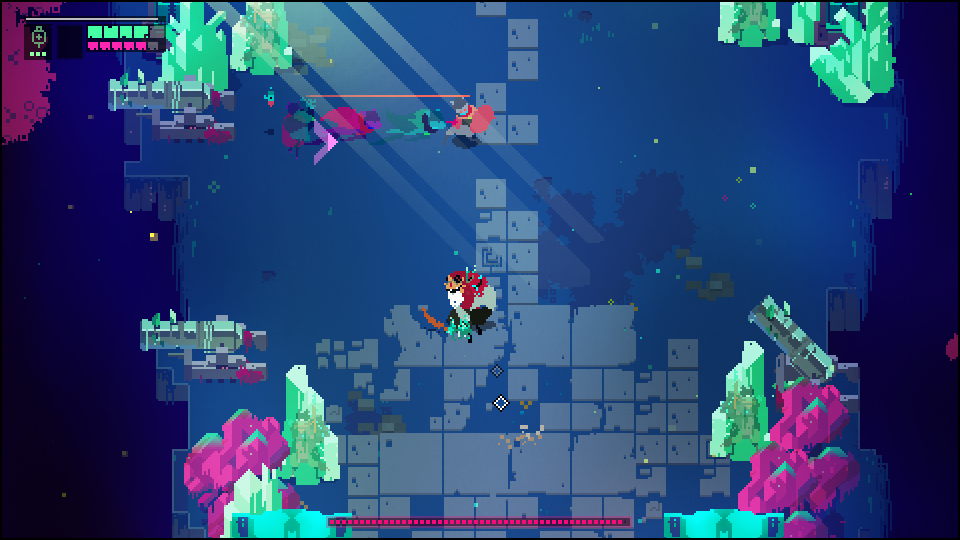hanged_man: (428, 264, 504, 343)
player: (445, 99, 497, 142)
